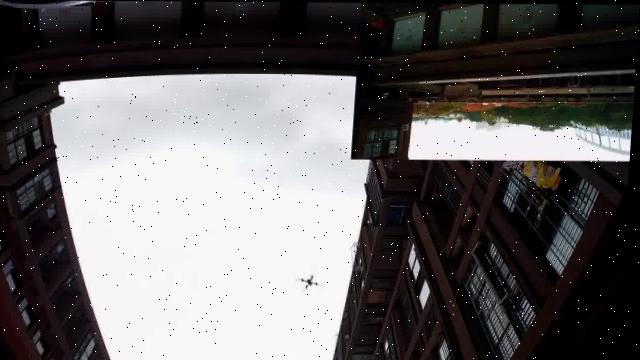drone: (273, 257, 338, 305)
